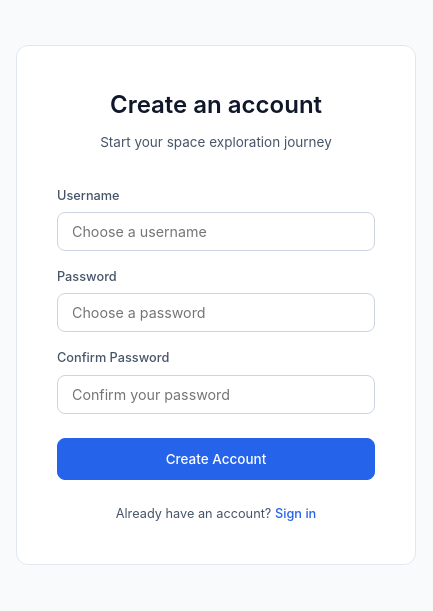
it: Register Page › displays backend 400 validation errors under the appropriate input fields
In the field labelled "Username": (216, 232) [57,212,375,251], type "existinguser"
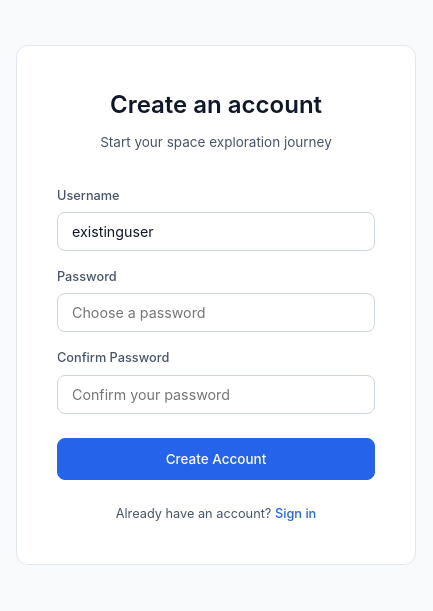
In the password field labelled "Password": (216, 313) [57,294,375,332], type "123"
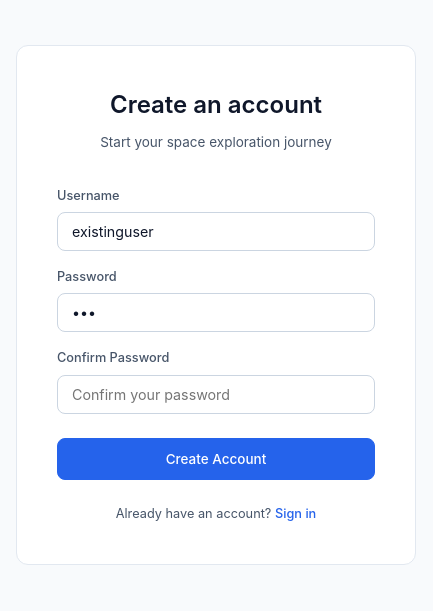
In the password field labelled "Confirm Password": (216, 394) [57,375,375,414], type "123"
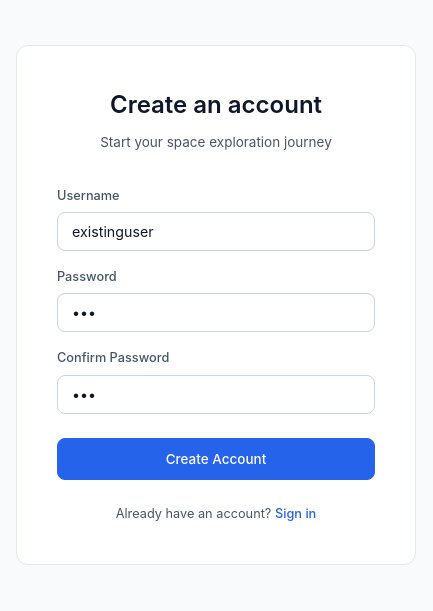
Click the button "Create Account": (216, 459) [57,438,375,480]
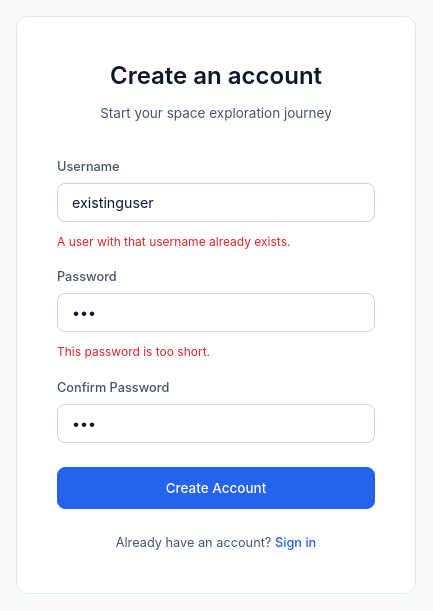
Result: the text "A user with that username already exists." is shown at [57,234,290,249]
Result: the text "This password is too short." is shown at [57,344,210,360]
